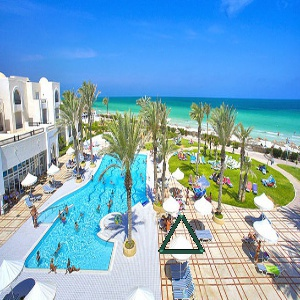triangle: (156, 211, 207, 256)
